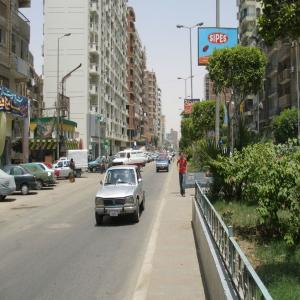Vehicle-registration-plate: (110, 211, 118, 217)
